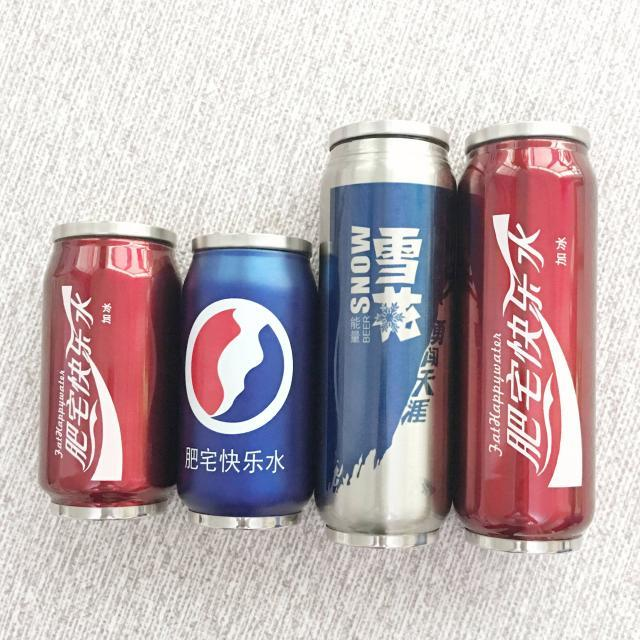can: (454, 122, 596, 553), (316, 120, 455, 548), (38, 222, 182, 520), (178, 234, 318, 528)
